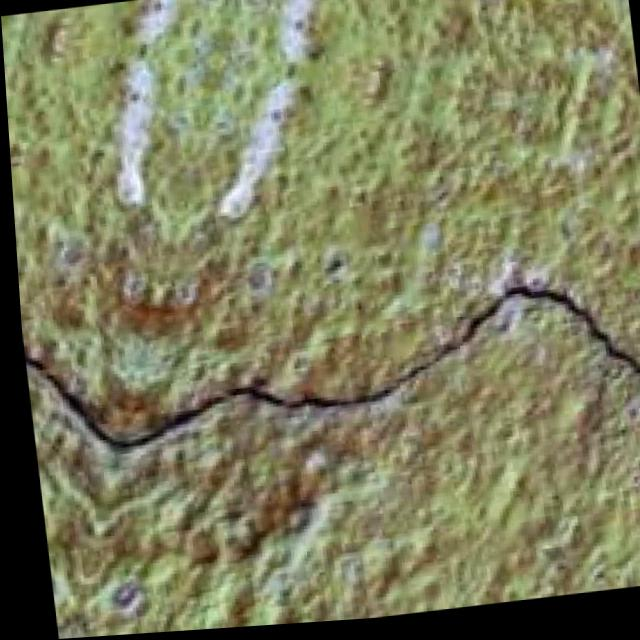Crack: (15, 247, 640, 514)
